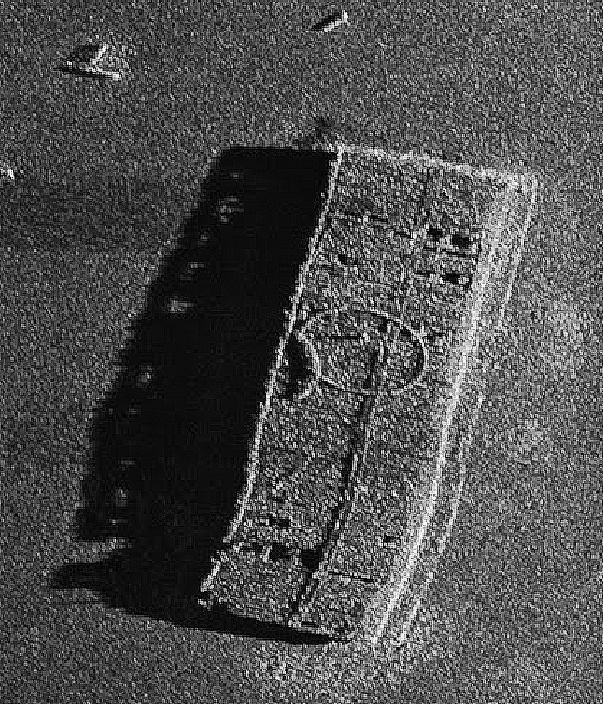ship: (189, 129, 544, 659)
